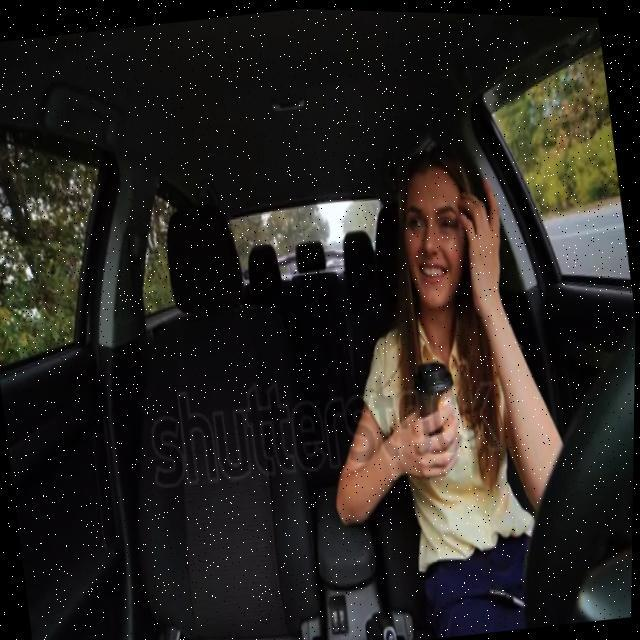Drinking: (413, 356, 471, 471)
